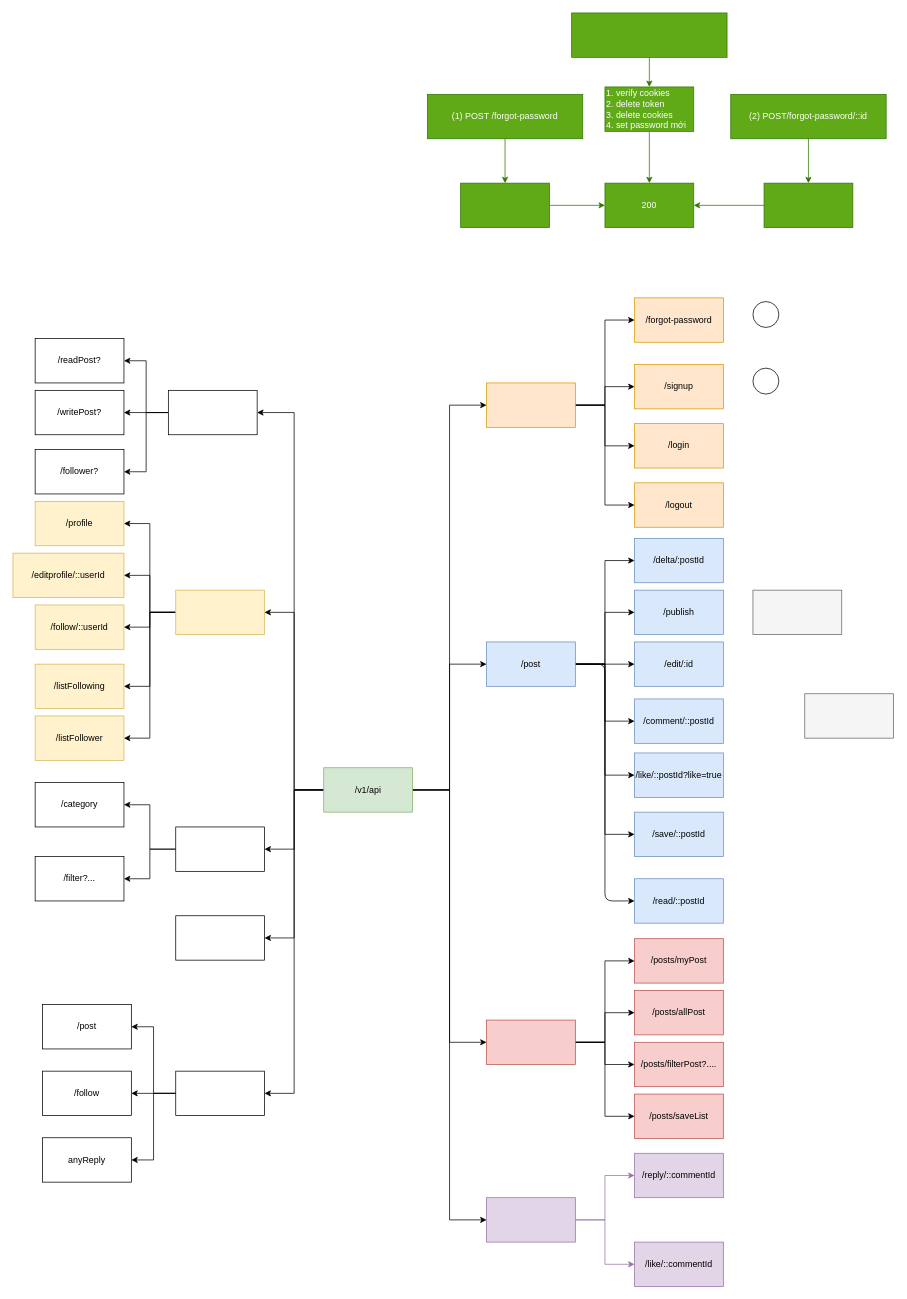
Image size: 907x1299. Some labels were removed from this diagram. The centre of each missing label's shape, as x and y in pixels:
"(3) POST /reset-password" belongs at (x=649, y=34).
"/auth" belongs at (x=530, y=404).
"/comment" belongs at (x=530, y=1219).
"/notification?" belongs at (x=220, y=1093).
"/posts" belongs at (x=530, y=1041).
"/recommend?" belongs at (x=220, y=848).
"/search?" belongs at (x=220, y=937).
"/stat" belongs at (x=212, y=412).
"/user" belongs at (x=220, y=612).
"1. check mail exist 2. create token, save to db then send token to mail" belongs at (x=504, y=205).
"1. verify token 2. set cookies (userId, token)" belongs at (x=808, y=205).
